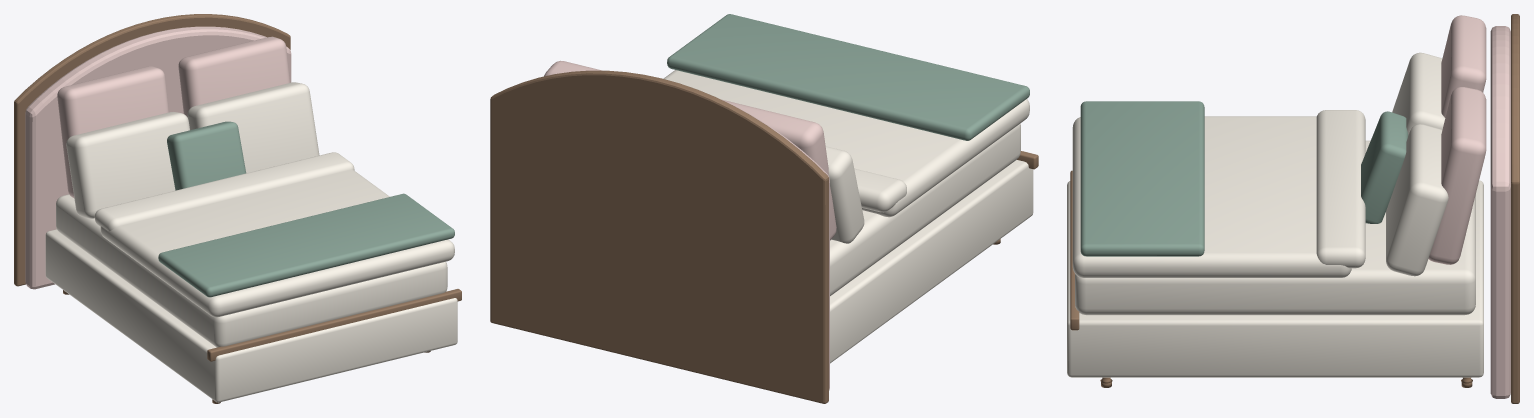
The model's file is bed_double.glb.
3 views of the same model, side by side, from view 1: azimuth 30°, elevation 25°; view 2: azimuth 150°, elevation 25°; view 3: azimuth 270°, elevation 25° (orthographic). The views are drawn at different scales.
Visible parts, largest first — view 1: base, duvet, throw, mattress, headboard, pillow0, pillow1, hbframe, euro0, fold, euro1, cush (+1 smaller); view 2: hbframe, throw, base, duvet, mattress, pillow0, euro0, fold; view 3: base, duvet, throw, mattress, headboard, fold, pillow1, euro1, cush, hbframe, euro0, pillow0 (+1 smaller).
Part boxes in pixels (left/top/right/bottom): base: left=45, top=229, right=457, bottom=402; duvet: left=100, top=169, right=454, bottom=317; throw: left=158, top=193, right=454, bottom=297; mattress: left=56, top=194, right=447, bottom=347; headboard: left=25, top=26, right=291, bottom=289; pillow0: left=66, top=112, right=189, bottom=218; pillow1: left=187, top=82, right=319, bottom=173; hbframe: left=14, top=14, right=290, bottom=286; euro0: left=57, top=66, right=168, bottom=197; fold: left=94, top=152, right=354, bottom=231; euro1: left=178, top=36, right=290, bottom=116; cush: left=167, top=121, right=246, bottom=190; hbframe: left=490, top=70, right=828, bottom=403; throw: left=667, top=14, right=1029, bottom=140; base: left=830, top=160, right=1033, bottom=363; duvet: left=663, top=70, right=1029, bottom=217; mattress: left=830, top=123, right=1020, bottom=295; pillow0: left=825, top=146, right=864, bottom=243; euro0: left=721, top=99, right=836, bottom=240; fold: left=854, top=168, right=906, bottom=212; base: left=1067, top=180, right=1483, bottom=377; duvet: left=1072, top=116, right=1351, bottom=277; throw: left=1080, top=101, right=1204, bottom=256; mattress: left=1075, top=140, right=1475, bottom=315; headboard: left=1490, top=26, right=1510, bottom=398; fold: left=1316, top=110, right=1365, bottom=268; pillow1: left=1386, top=124, right=1448, bottom=276; euro1: left=1428, top=87, right=1486, bottom=264; cush: left=1361, top=111, right=1408, bottom=223; hbframe: left=1511, top=14, right=1519, bottom=403; euro0: left=1441, top=15, right=1486, bottom=117; pillow0: left=1392, top=52, right=1445, bottom=135.
Size of the model in its own units: 1.7 by 1.37 by 2.01.
